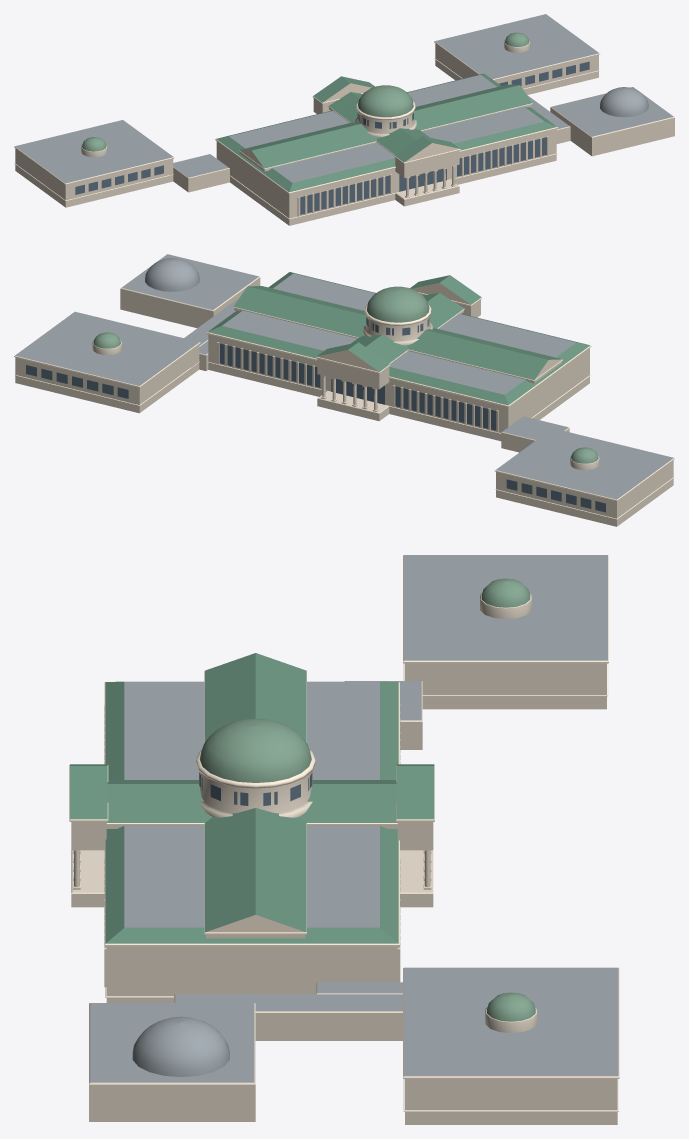
The model's file is chi-museum-of-science-industry.glb.
3 renders of one model, top to bottom at view 1: azimuth 30°, elevation 25°; view 2: azimuth 150°, elevation 25°; view 3: azimuth 270°, elevation 25°, orthographic. The views are drawn at different scales.
Parts seen in each view (by area): view 1: Museum of Science and Industry; view 2: Museum of Science and Industry; view 3: Museum of Science and Industry.
Boxes of the visible parts, x1,y1,x2,y2 form: Museum of Science and Industry: (14, 14, 674, 225); Museum of Science and Industry: (14, 254, 674, 526); Museum of Science and Industry: (69, 555, 619, 1124).
Size of the model in its own units: 348 by 48 by 155.
